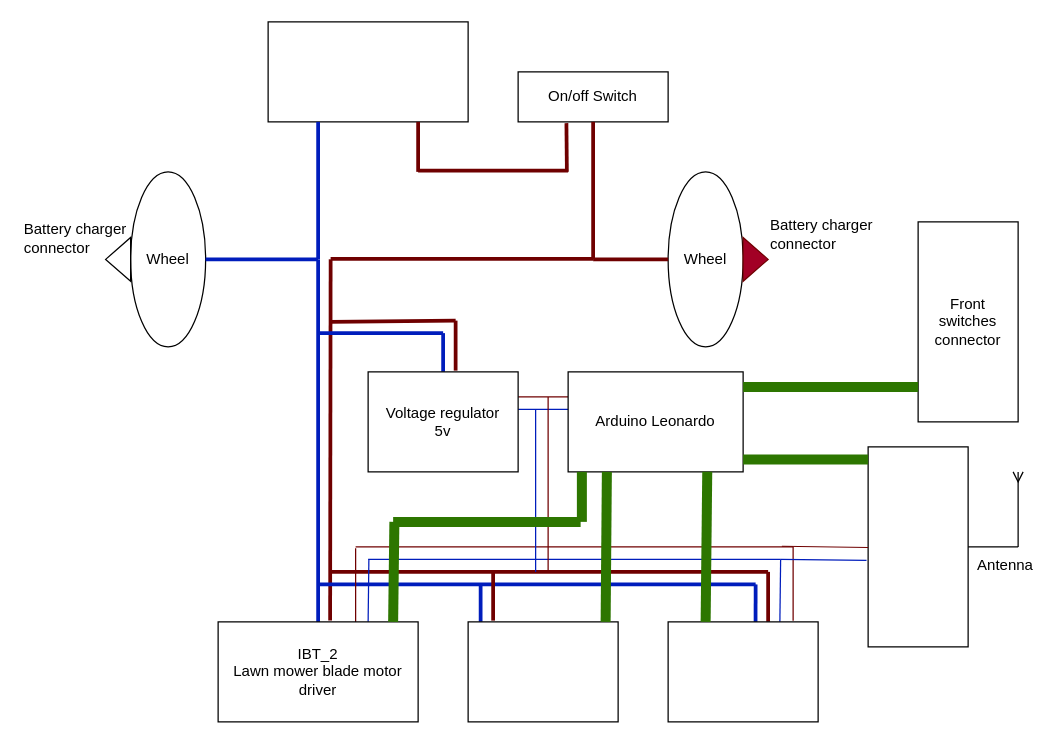
Some shapes in this 1064 by 744 pixel diagram are drawn without their labels. Each missing label, with the centre of its shape:
"Battery 25.2V" belongs at point 367,71.
"Carson 14 Channel Receiver" belongs at point 917,546.
"DRV8871 Motor driver left" belongs at point 542,671.
"DRV8871 Motor driver right" belongs at point 742,671.
